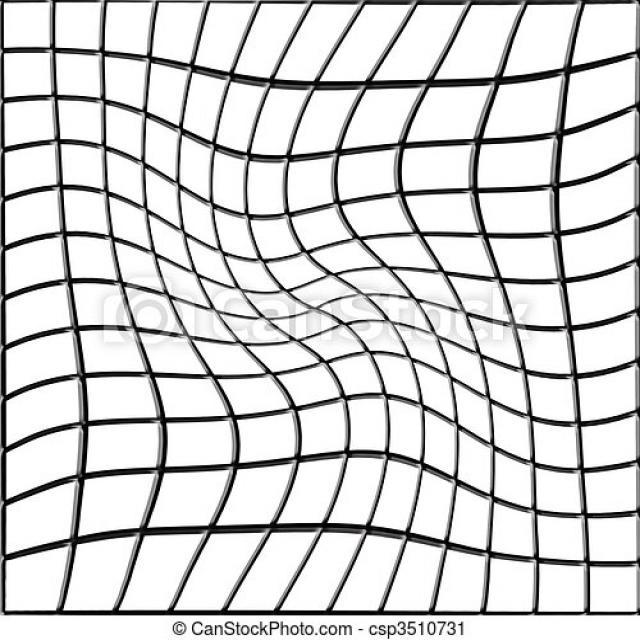fence line: (39, 61, 596, 581), (40, 70, 595, 569)
